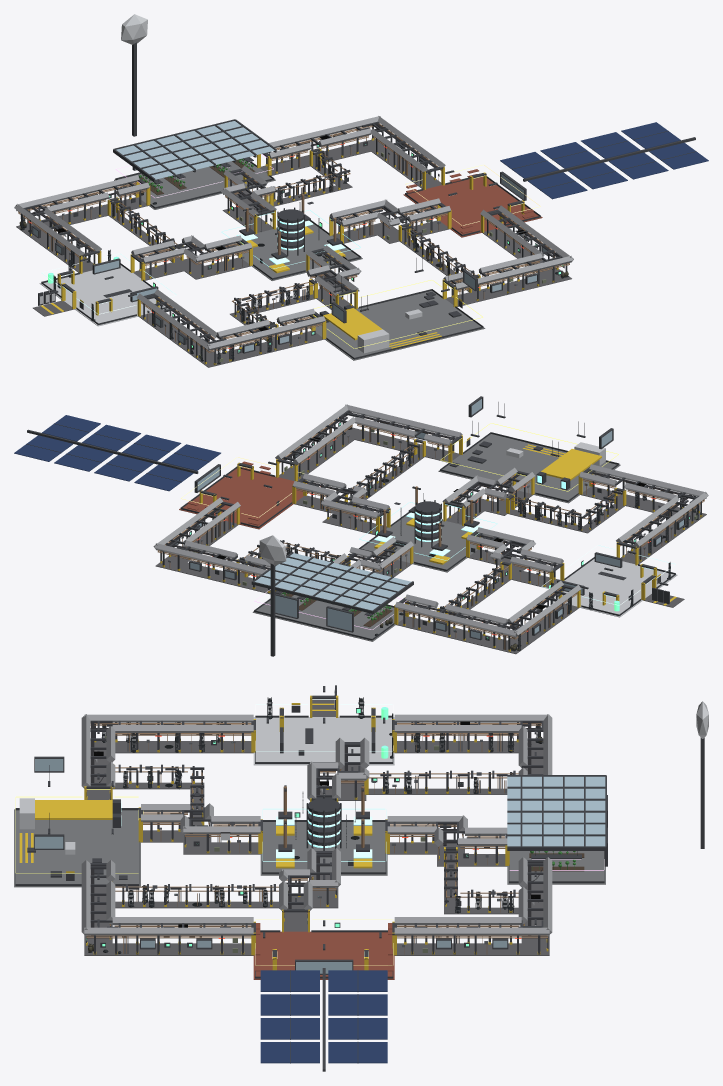
The model's file is decor.glb.
3 renders of one model, top to bottom at view 1: azimuth 30°, elevation 25°; view 2: azimuth 150°, elevation 25°; view 3: azimuth 270°, elevation 25°, orthographic. The views are drawn at different scales.
Parts seen in each view (by area): view 1: L_DecoFloor_468, L_DecoGlass_455, L_DecoFloor_470, L_DecoFloor_472, L_DecoFloor_451, L_DecoFloor_453, L_DecoFloor_500, L_DecoFloor_506, L_DecoFloor_508, L_DecoSolarPanel_1030, L_DecoSolarPanel_1022, L_DecoSolarPanel_1034 (+20 smaller); view 2: L_DecoFloor_468, L_DecoGlass_455, L_DecoFloor_470, L_DecoFloor_472, L_DecoFloor_451, L_DecoFloor_453, L_DecoFloor_514, L_DecoShuttleStripe_866, L_DecoFloor_504, L_DecoFloor_506, L_DecoFloor_500, L_DecoSolarPanel_1020 (+33 smaller); view 3: L_DecoFloor_468, L_DecoGlass_455, L_DecoFloor_472, L_DecoFloor_470, L_DecoFloor_451, L_DecoFloor_453, L_DecoFloor_510, L_DecoShuttleStripe_866, L_DecoFloor_504, L_DecoChamfer_50555, L_DecoFloor_512, L_DecoChamfer_50056 (+27 smaller).
Part boxes in pixels (bbox=[...]): L_DecoFloor_468: bbox=[308, 291, 485, 360]; L_DecoGlass_455: bbox=[116, 121, 274, 179]; L_DecoFloor_470: bbox=[403, 176, 542, 237]; L_DecoFloor_472: bbox=[39, 265, 173, 326]; L_DecoFloor_451: bbox=[229, 221, 362, 280]; L_DecoFloor_453: bbox=[114, 160, 275, 209]; L_DecoFloor_500: bbox=[260, 139, 384, 175]; L_DecoFloor_506: bbox=[445, 270, 571, 306]; L_DecoFloor_508: bbox=[197, 331, 324, 367]; L_DecoSolarPanel_1030: bbox=[608, 152, 668, 179]; L_DecoSolarPanel_1022: bbox=[528, 172, 587, 199]; L_DecoSolarPanel_1034: bbox=[649, 142, 708, 169]; L_DecoFloor_468: bbox=[438, 434, 620, 503]; L_DecoGlass_455: bbox=[254, 553, 411, 610]; L_DecoFloor_470: bbox=[179, 468, 309, 529]; L_DecoFloor_472: bbox=[549, 559, 677, 617]; L_DecoFloor_451: bbox=[361, 513, 493, 572]; L_DecoFloor_453: bbox=[252, 593, 411, 641]; L_DecoFloor_514: bbox=[396, 616, 527, 654]; L_DecoShuttleStripe_866: bbox=[541, 449, 601, 480]; L_DecoFloor_504: bbox=[279, 427, 365, 480]; L_DecoFloor_506: bbox=[340, 428, 460, 462]; L_DecoFloor_500: bbox=[155, 557, 270, 594]; L_DecoSolarPanel_1020: bbox=[134, 464, 193, 491]; L_DecoFloor_468: bbox=[14, 809, 140, 887]; L_DecoGlass_455: bbox=[507, 776, 605, 846]; L_DecoFloor_472: bbox=[253, 717, 394, 765]; L_DecoFloor_470: bbox=[253, 931, 394, 979]; L_DecoFloor_451: bbox=[260, 822, 387, 875]; L_DecoFloor_453: bbox=[507, 851, 605, 884]; L_DecoFloor_510: bbox=[94, 741, 253, 753]; L_DecoShuttleStripe_866: bbox=[35, 800, 112, 819]; L_DecoFloor_504: bbox=[84, 943, 253, 955]; L_DecoChamfer_50555: bbox=[84, 927, 253, 935]; L_DecoFloor_512: bbox=[395, 741, 543, 753]; L_DecoChamfer_50056: bbox=[84, 714, 253, 722].
Bounding box in the file's own units: 130 × 23.37 × 98.59.
